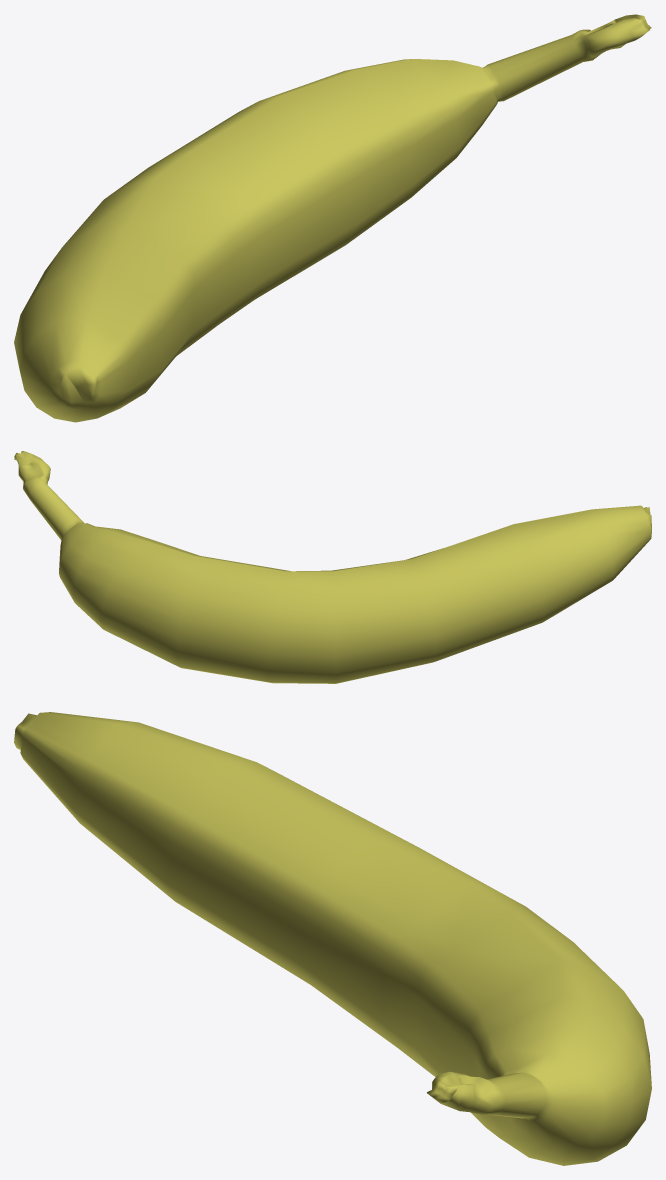
File: banana.dae
3 renders of one model, top to bottom at view 1: azimuth 30°, elevation 25°; view 2: azimuth 150°, elevation 25°; view 3: azimuth 270°, elevation 25°, orthographic. The views are drawn at different scales.
Parts seen in each view (by area): view 1: Banana; view 2: Banana; view 3: Banana.
Part boxes in pixels (<box>): Banana: <box>14,14,651,422</box>; Banana: <box>14,451,651,683</box>; Banana: <box>14,712,651,1165</box>.
Size of the model in its own units: 1.73 by 1.1 by 0.4587.
